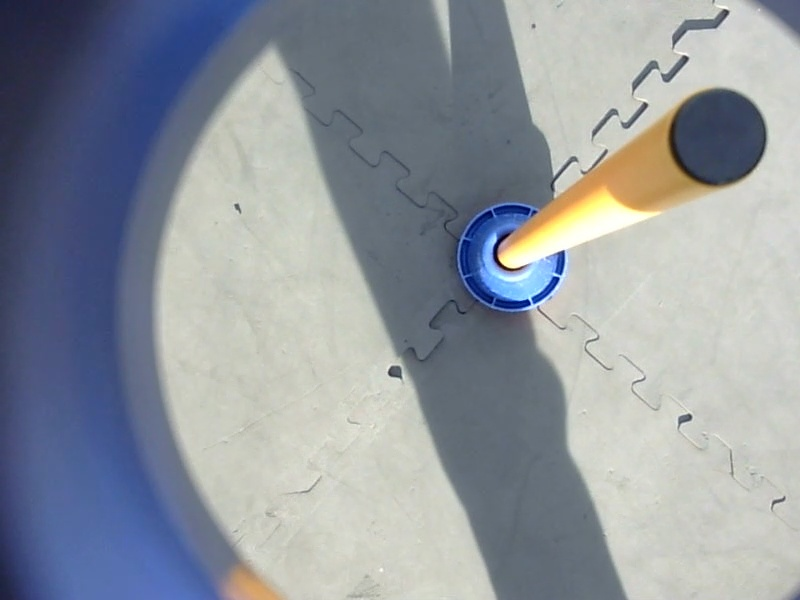tip: (663, 83, 776, 193)
